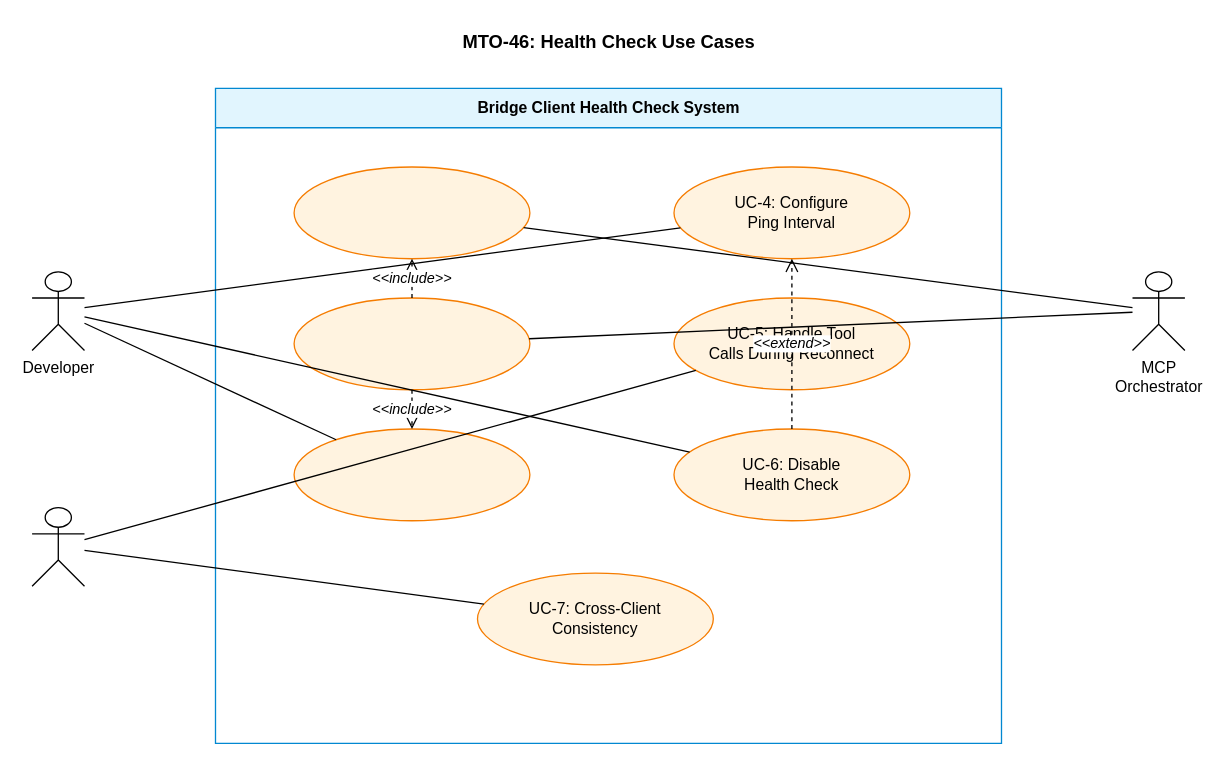
Some shapes in this 1225 by 766 pixel diagram are drawn without their labels. The box of each missing label's shape, as (x1, y1, x2, y2) in pixels:
IDE: (31, 506, 84, 586)
UC-1: Periodic Ping: (293, 166, 530, 259)
UC-2: Auto-Reconnect (Exponential Backoff): (293, 297, 530, 390)
UC-3: Log State Changes: (293, 428, 530, 521)
